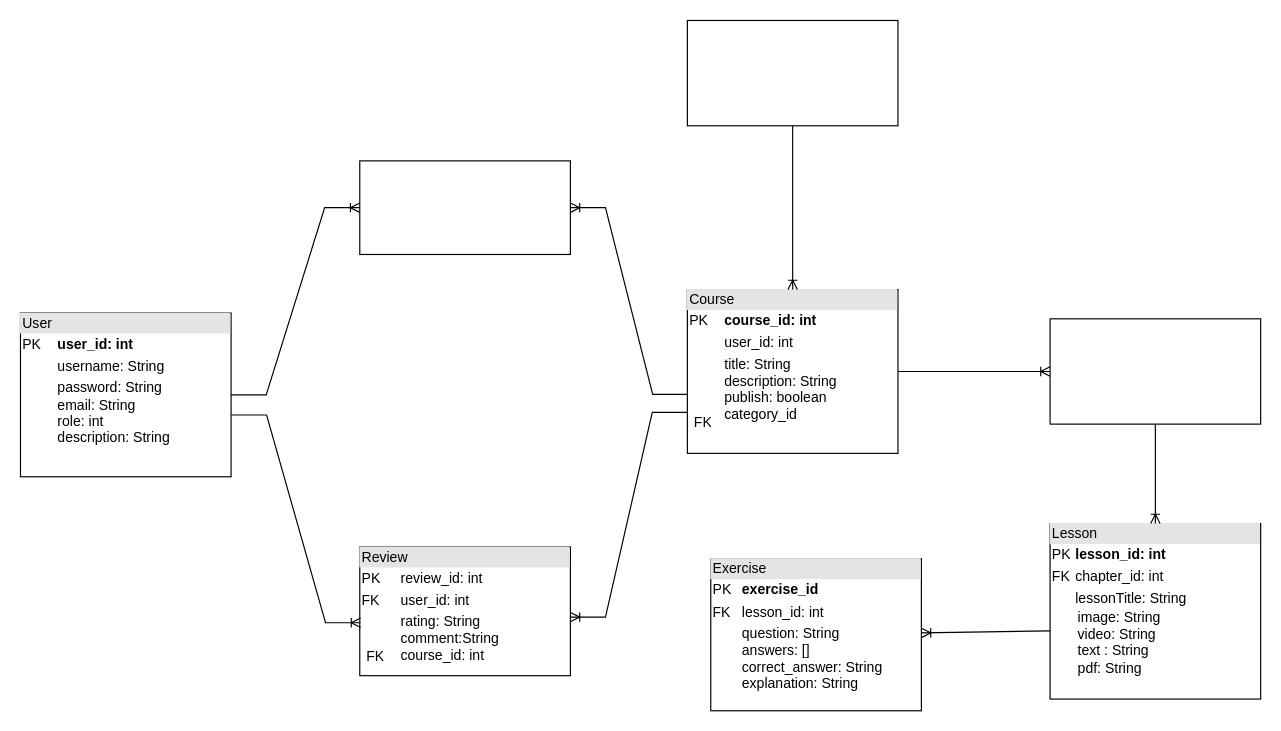
This 1281x731 diagram has some shape labels left out. Each missing label, with the centre of its shape:
"Categories PK category_id: int categoryName: String" goes at point (792, 72).
"Chapter PK chapter_id: int FK course_id: int chapterTitle: String" goes at point (1155, 371).
"CourseStudy FK user_id: int FK course_id: int" goes at point (464, 207).
